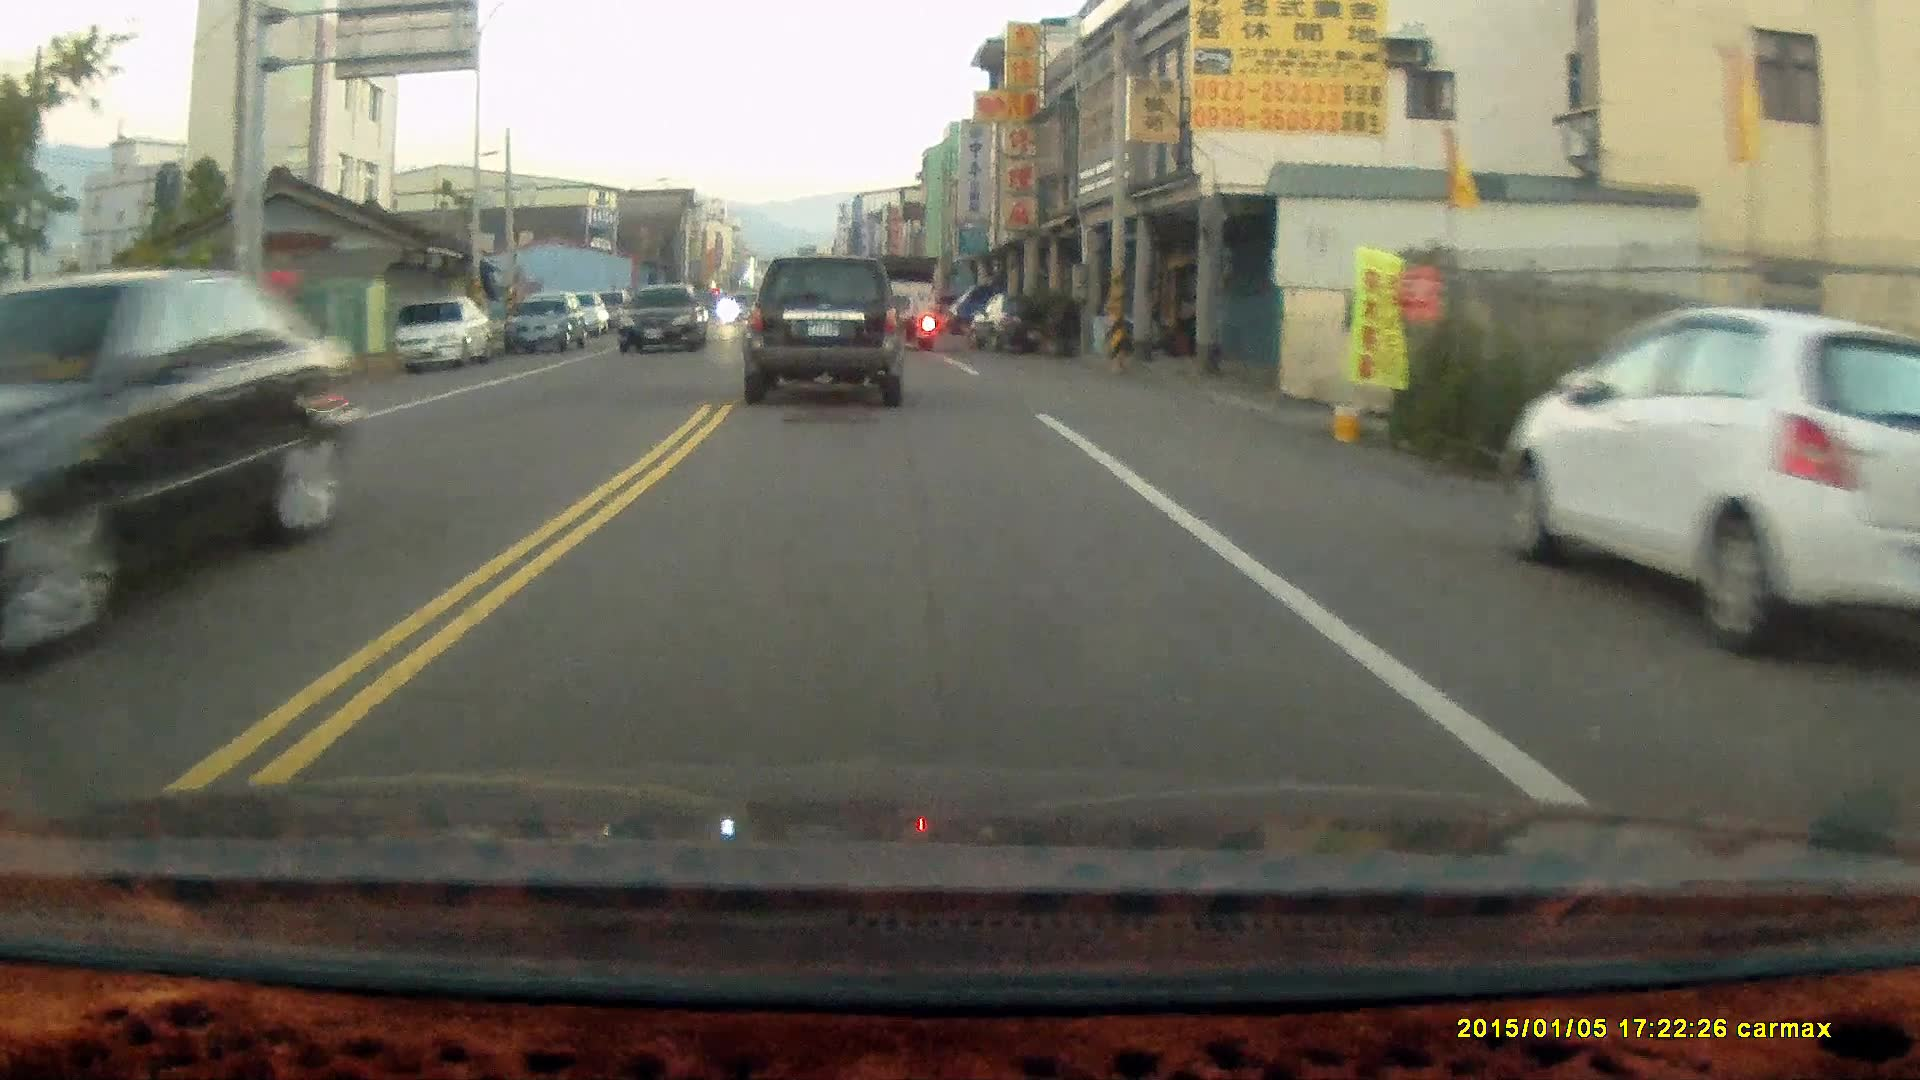vehicle: (1502, 305, 1920, 670), (1, 266, 367, 674), (745, 260, 911, 415), (861, 253, 943, 352), (390, 295, 493, 368), (620, 290, 712, 356), (502, 290, 589, 356)
